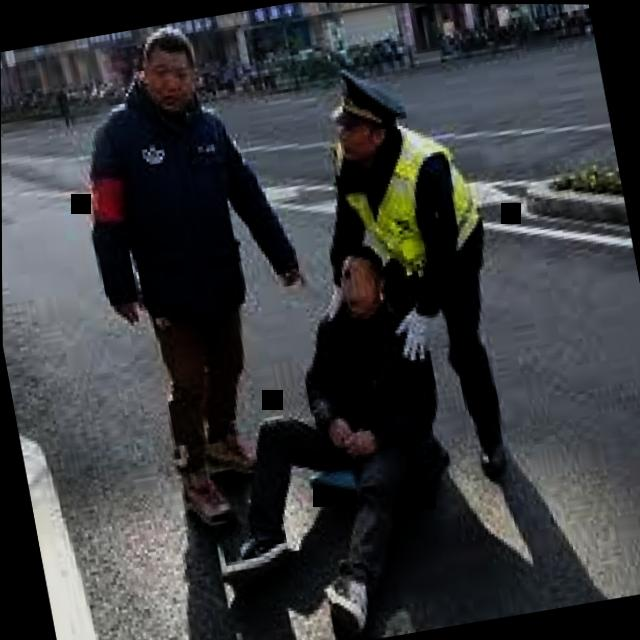Fall-Detected: (150, 205, 491, 640)
